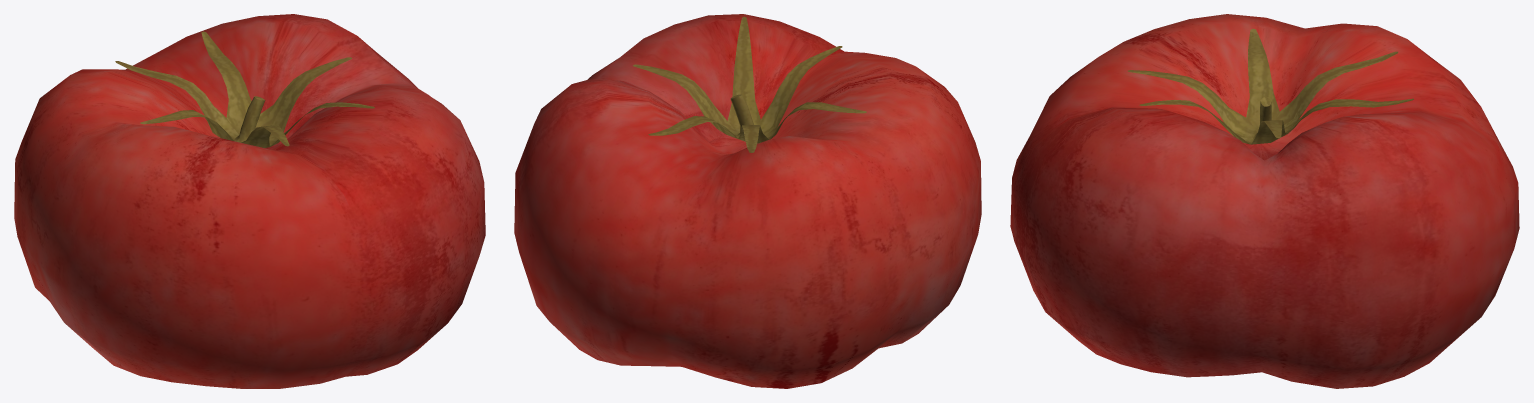
The model's file is Tomato.fbx.
The picture shows the model from 3 angles, left to right: view 1: azimuth 30°, elevation 25°; view 2: azimuth 150°, elevation 25°; view 3: azimuth 270°, elevation 25°; orthographic projection. The views are drawn at different scales.
Visible parts, largest first — view 1: Tomato_LOD0; view 2: Tomato_LOD0; view 3: Tomato_LOD0.
Part boxes in pixels (x1,y1,x2,y2): Tomato_LOD0: [14, 14, 485, 388]; Tomato_LOD0: [514, 14, 981, 388]; Tomato_LOD0: [1010, 14, 1519, 388].
Size of what is drawn, in the model's own units: 10.78 by 6.66 by 11.77.
